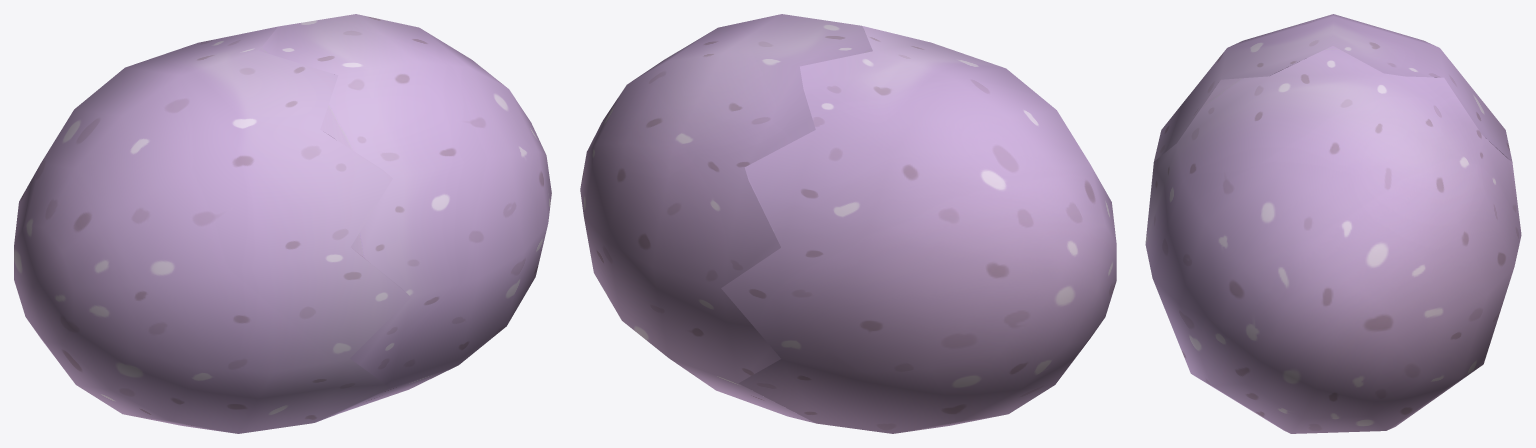
File: dinoeggpurple.fbx
The picture shows the model from 3 angles, left to right: view 1: azimuth 30°, elevation 25°; view 2: azimuth 150°, elevation 25°; view 3: azimuth 270°, elevation 25°; orthographic projection. The views are drawn at different scales.
Parts seen in each view (by area): view 1: pSphere26, pSphere27; view 2: pSphere26, pSphere27; view 3: pSphere27, pSphere26.
Boxes of the visible parts, x1,y1,x2,y2 form: pSphere26: (14,26,410,433); pSphere27: (259,14,551,422); pSphere26: (721,26,1116,433); pSphere27: (580,14,872,423); pSphere27: (1145,46,1521,433); pSphere26: (1146,14,1512,234).
Size of the model in its own units: 2.83 by 1.97 by 1.98.
Materials: 1 (1 with a texture image).
